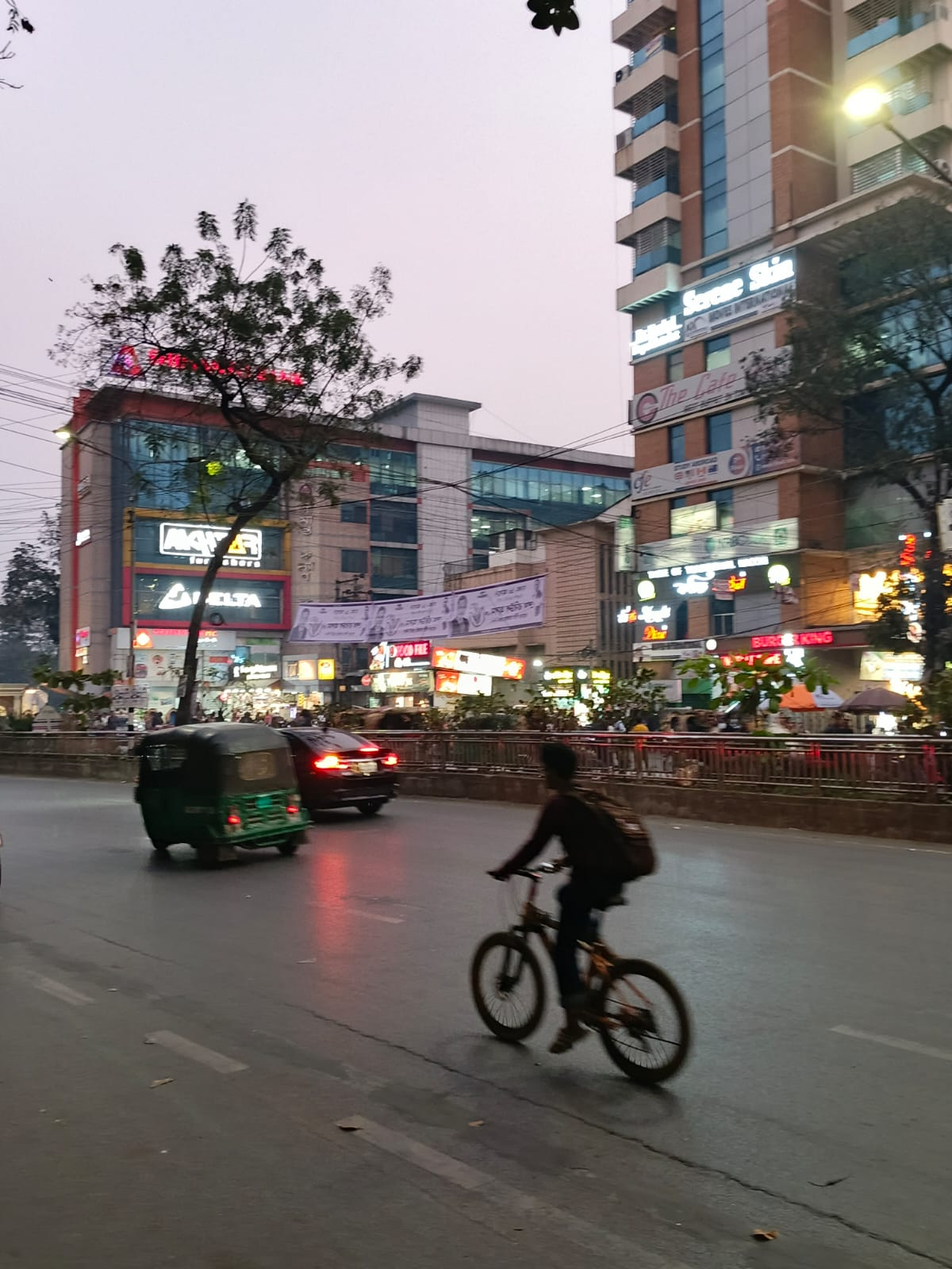Bikes: (455, 704, 779, 1124)
cng: (124, 675, 307, 870)
private car: (264, 704, 423, 830)
